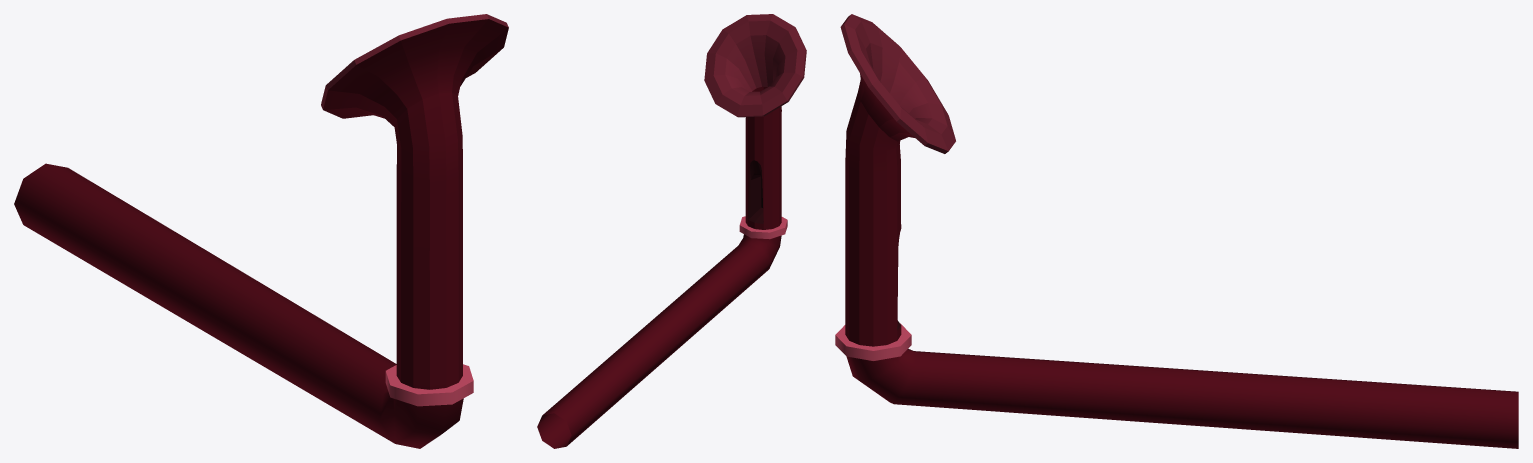
The model's file is ENV_Xylophone_Pipe_08.fbx.
3 renders of one model, left to right at view 1: azimuth 30°, elevation 25°; view 2: azimuth 150°, elevation 25°; view 3: azimuth 270°, elevation 25°, orthographic. The views are drawn at different scales.
Visible parts, largest first — view 1: ENV_Xylophone_Pipe_08; view 2: ENV_Xylophone_Pipe_08; view 3: ENV_Xylophone_Pipe_08.
Boxes of the visible parts, box(x1,y1,x2,y2) form: ENV_Xylophone_Pipe_08: box(14, 14, 508, 448); ENV_Xylophone_Pipe_08: box(537, 14, 806, 448); ENV_Xylophone_Pipe_08: box(835, 14, 1518, 448).
Size of the model in its own units: 2198 by 6014 by 8792.
